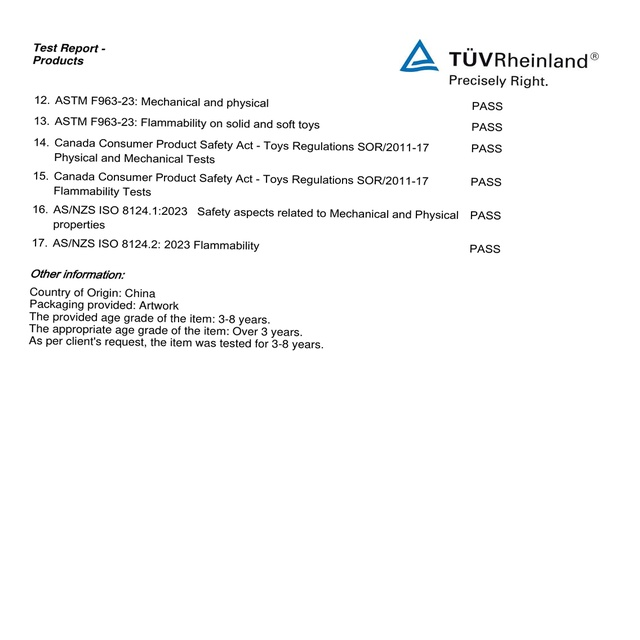tuv_rheinland: (399, 38, 602, 76)
